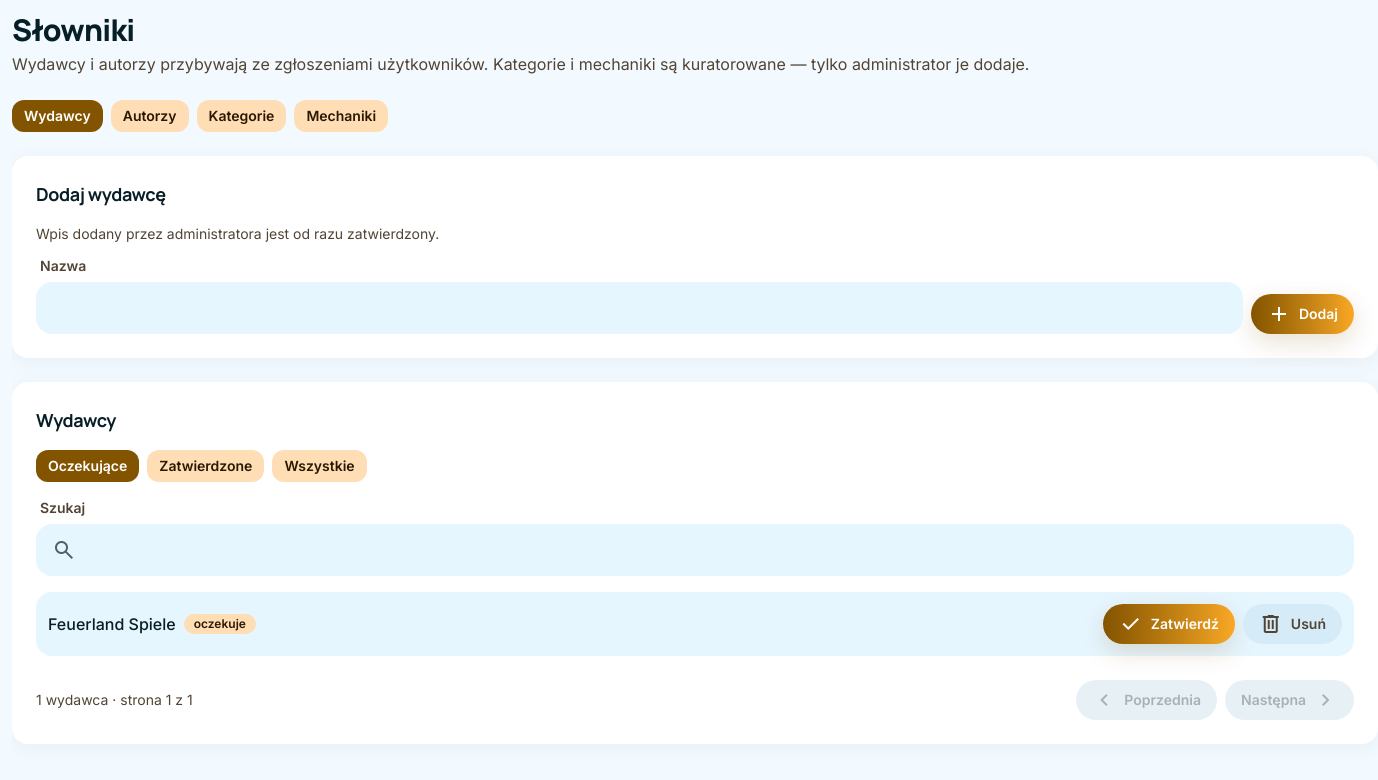
AdminTaxonomyPage — wydawcy (słownik rosnący) › domyślnie pokazuje oczekujących i pozwala ich zatwierdzić
The image size is (1378, 780).
Check: the text "Feuerland Spiele" is shown, box [48,612,176,636]
Check: the text "oczekuje" is shown, box [184,614,256,634]
Click the button "Zatwierdź": [1169, 624] box [1103,604,1235,644]
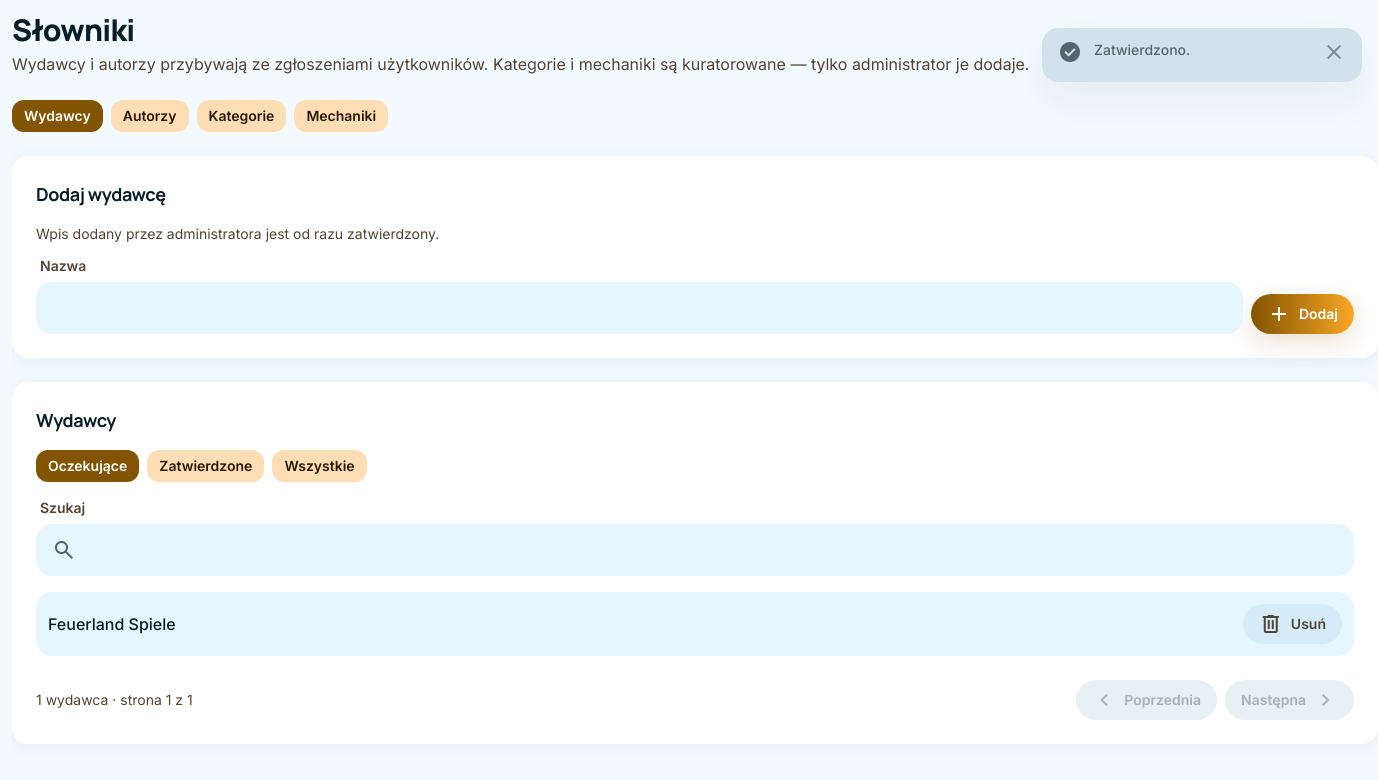
Check: the text "oczekuje" is gone
